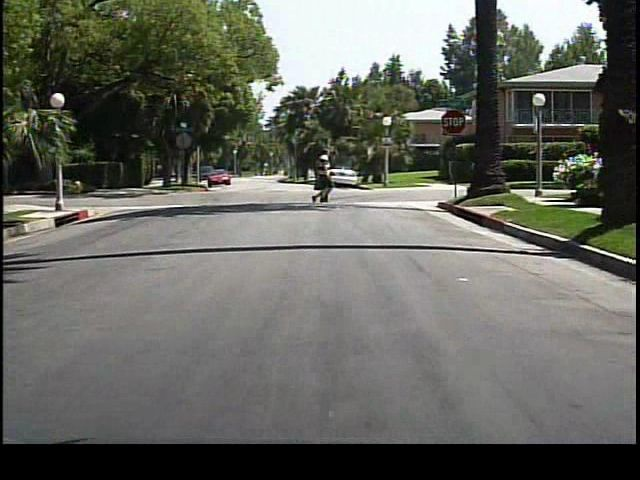person: (308, 148, 333, 205)
